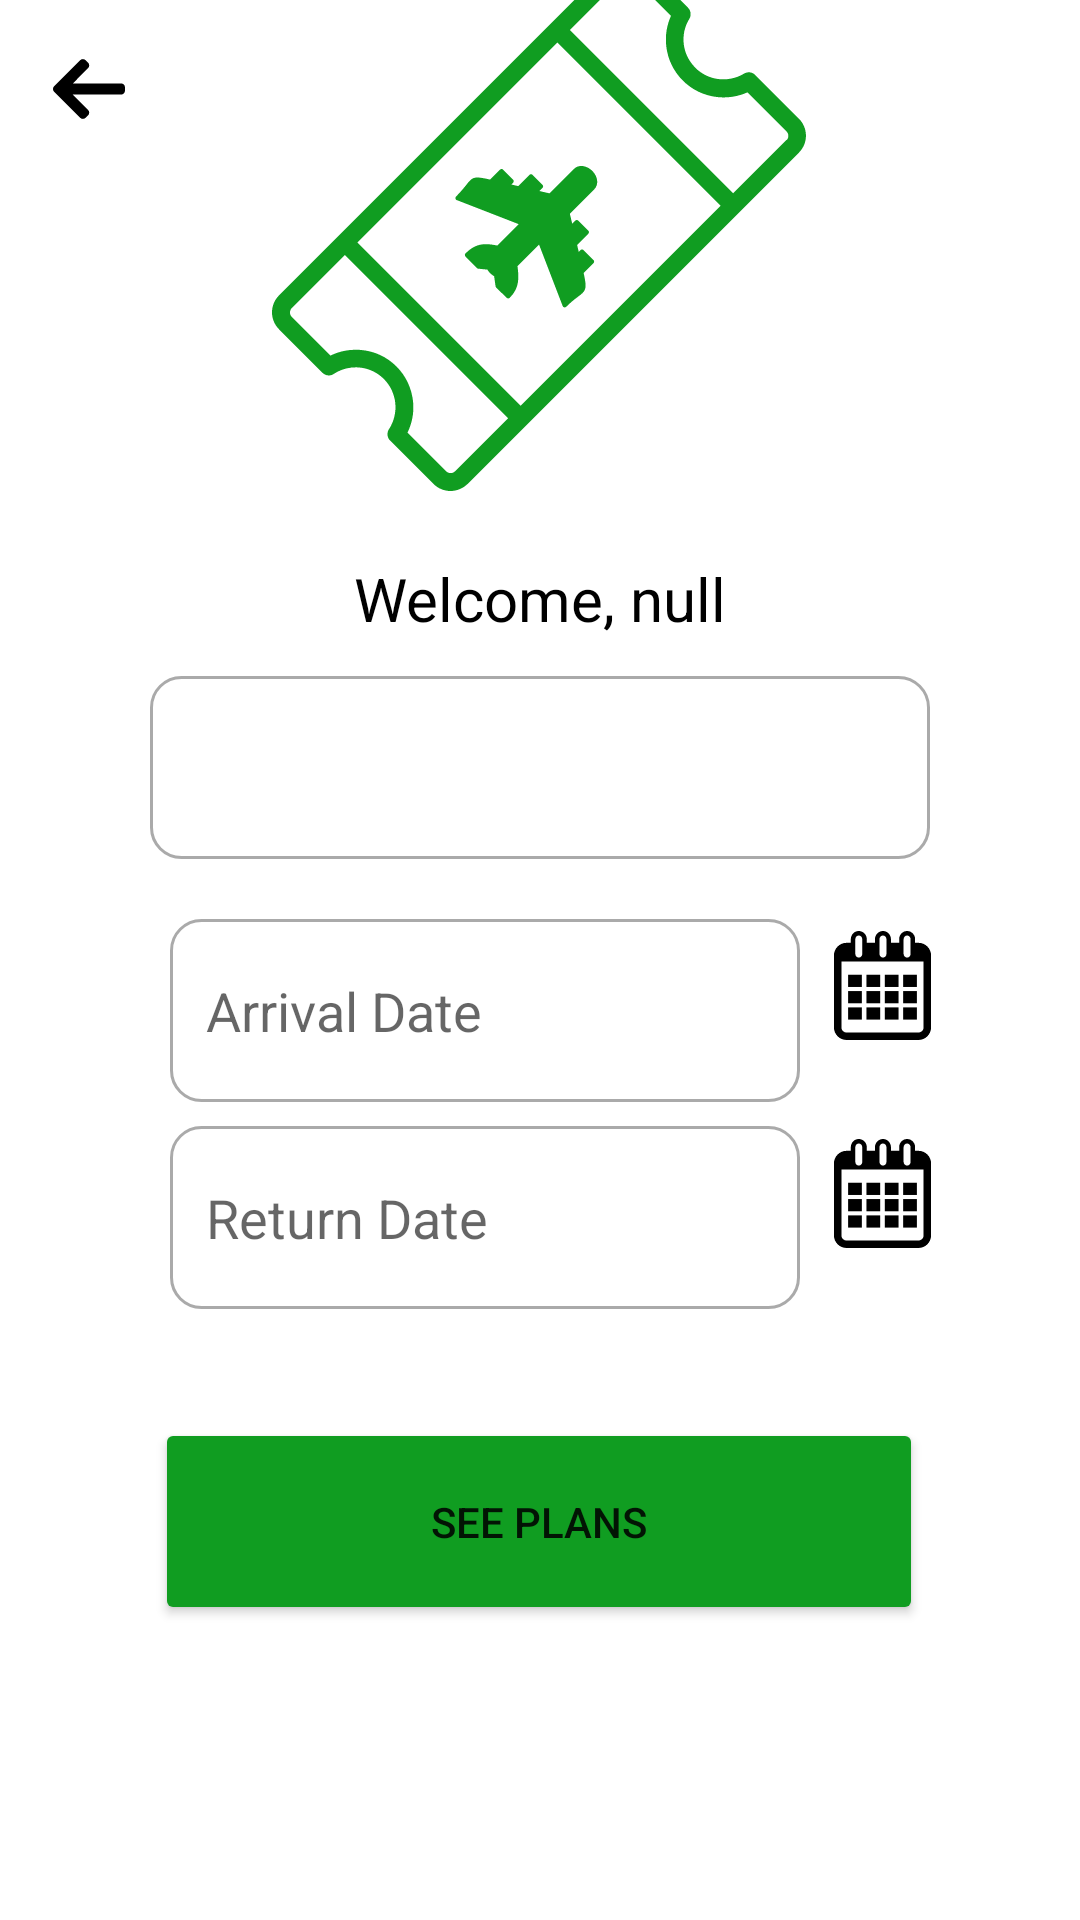

Named icons in this screenshot (1080 x 1920) and their centers, (x,y):
calendar: (882,985), (882,1193)
left arrow: (89,89)
